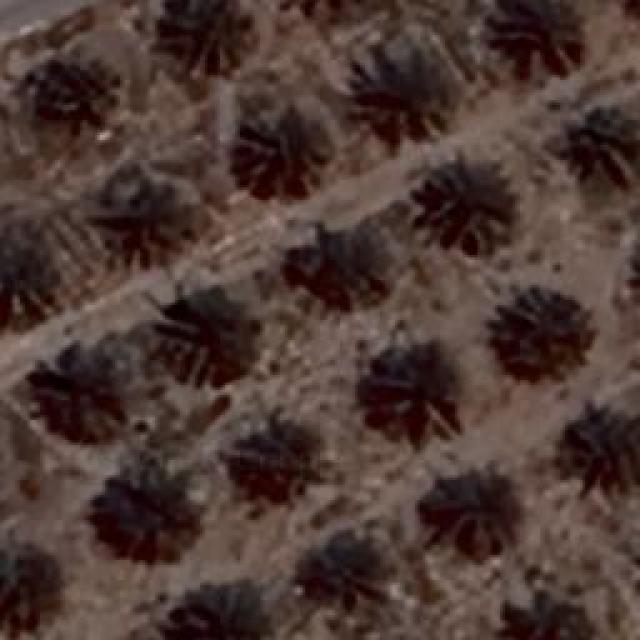PalmTree: (117, 52, 556, 614), (94, 9, 330, 52), (437, 482, 525, 576), (172, 292, 260, 376), (565, 402, 640, 496), (375, 346, 453, 434), (490, 292, 575, 372), (425, 174, 510, 252), (102, 476, 196, 546), (240, 418, 315, 504), (160, 0, 252, 70), (52, 354, 126, 438), (304, 225, 376, 303), (307, 542, 385, 612), (488, 4, 578, 64), (0, 548, 60, 632), (179, 588, 279, 638), (120, 180, 188, 252), (575, 110, 640, 182), (251, 118, 324, 182), (42, 62, 116, 122), (370, 54, 440, 114), (0, 241, 48, 324), (280, 0, 376, 9)
